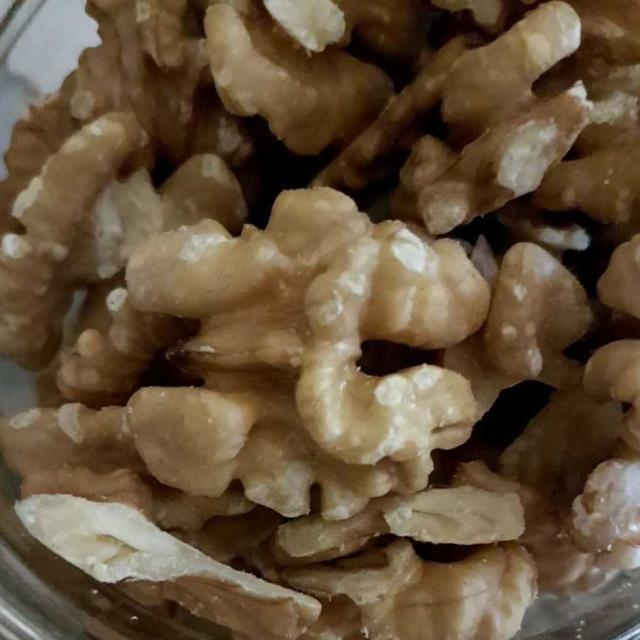walnut: (13, 23, 636, 624)
